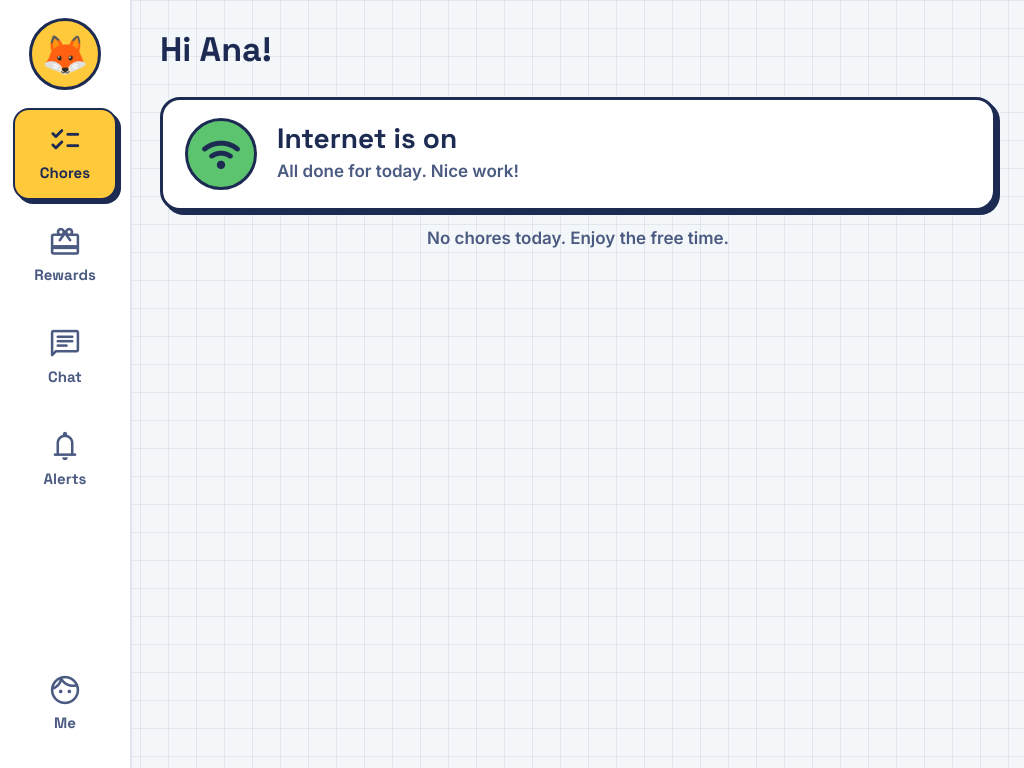
Test: kid page family › shows siblings and opens a profile
The width and height of the screenshot is (1024, 768).
Click the button "Me".
click(65, 704)  # box [13,658,117,750]
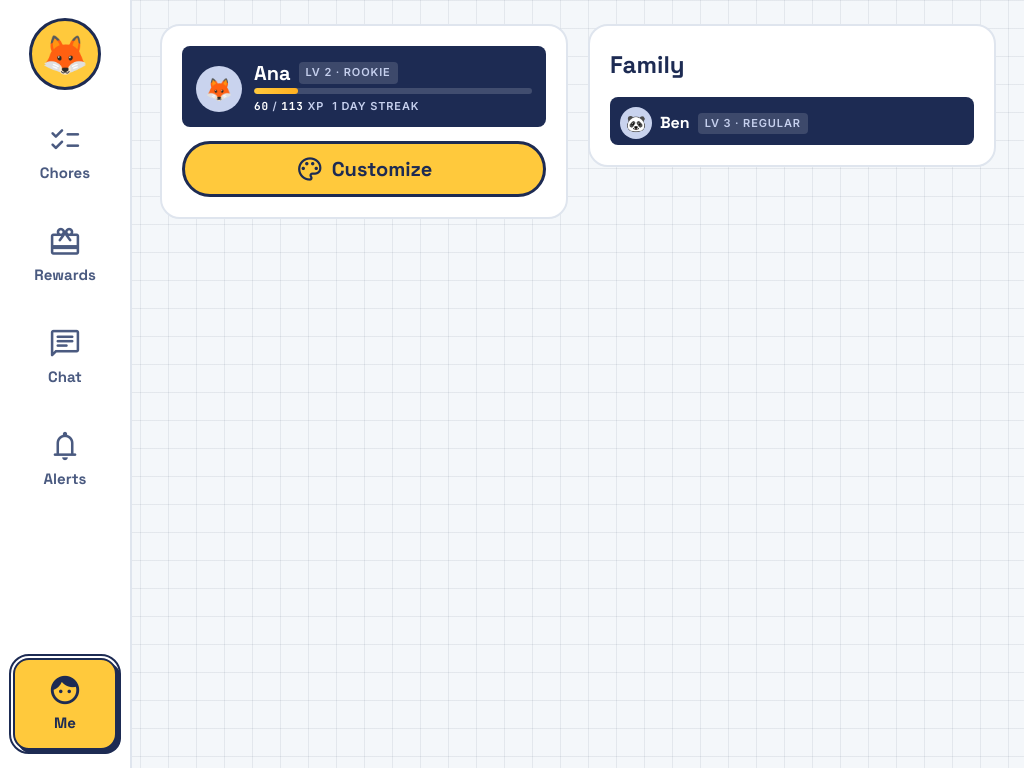
Expected: the text "Lv 2 · Rookie" is shown, [299,62,398,84]
Click the button "🐼 Ben Lv 3 · Regular".
click(792, 121)  # box [610,97,974,145]
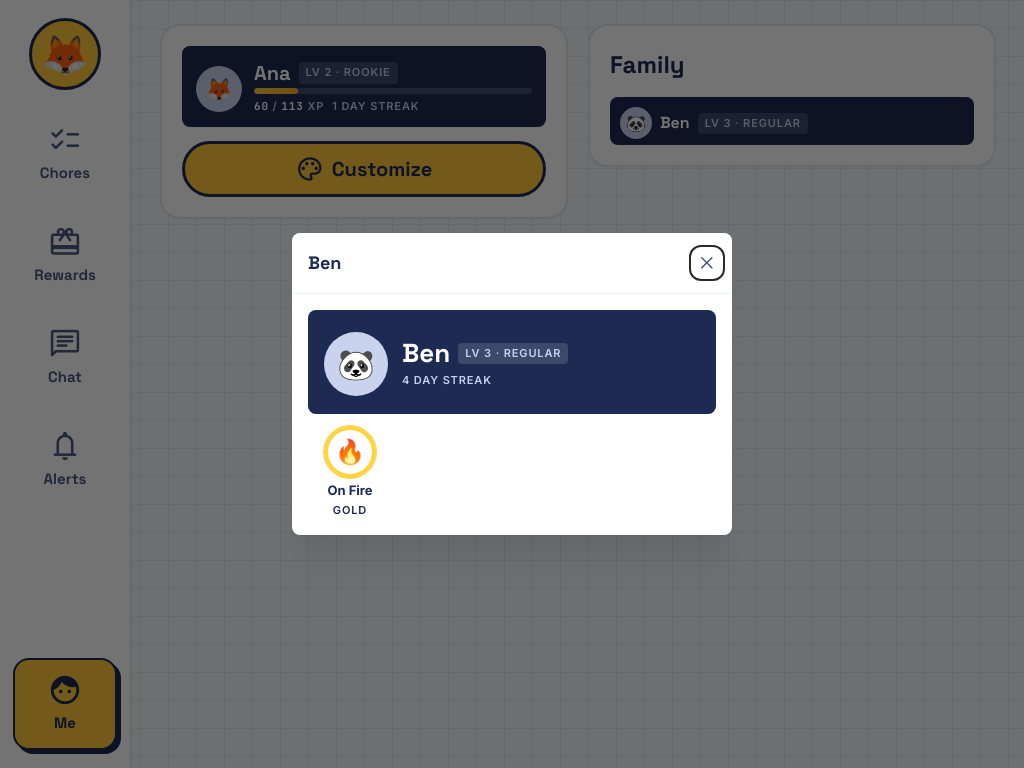
Expected: the text "On Fire" is shown, [328,480,373,500]
